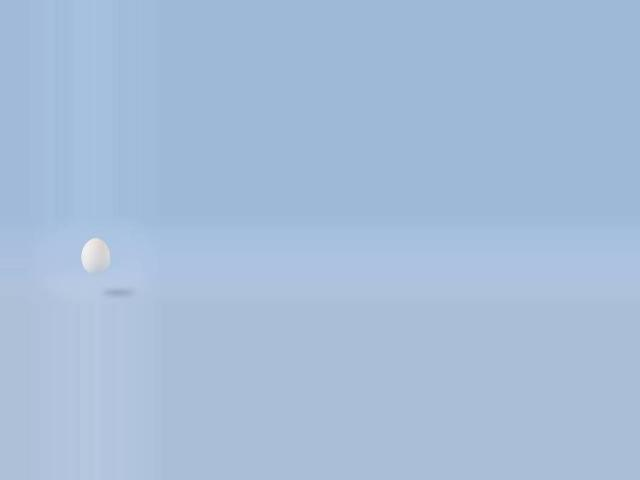egg: (80, 238, 110, 274)
